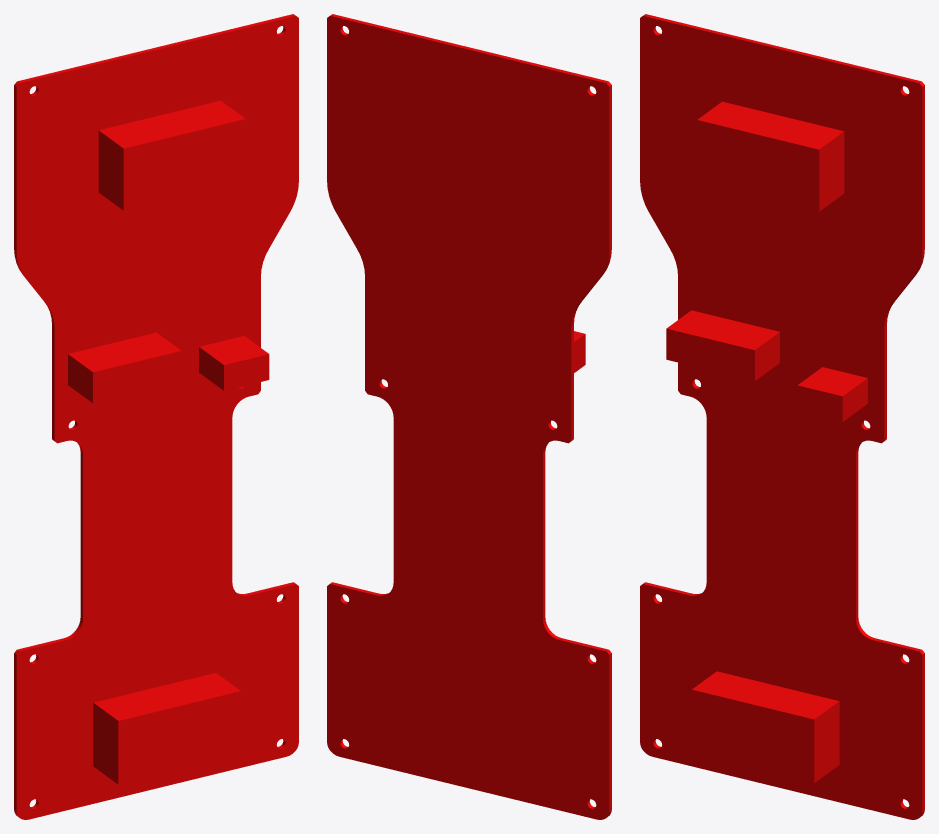
The model's file is chassis_bottom.obj.
3 views of the same model, side by side, from view 1: azimuth 30°, elevation 25°; view 2: azimuth 150°, elevation 25°; view 3: azimuth 330°, elevation 25° (orthographic).
Parts seen in each view (by area): view 1: Body3; view 2: Body3; view 3: Body3.
Boxes of the visible parts, x1,y1,x2,y2 form: Body3: [14, 14, 298, 819]; Body3: [327, 14, 611, 819]; Body3: [640, 14, 924, 819].
Size of the model in its own units: 0.104 by 0.26 by 0.0176.
